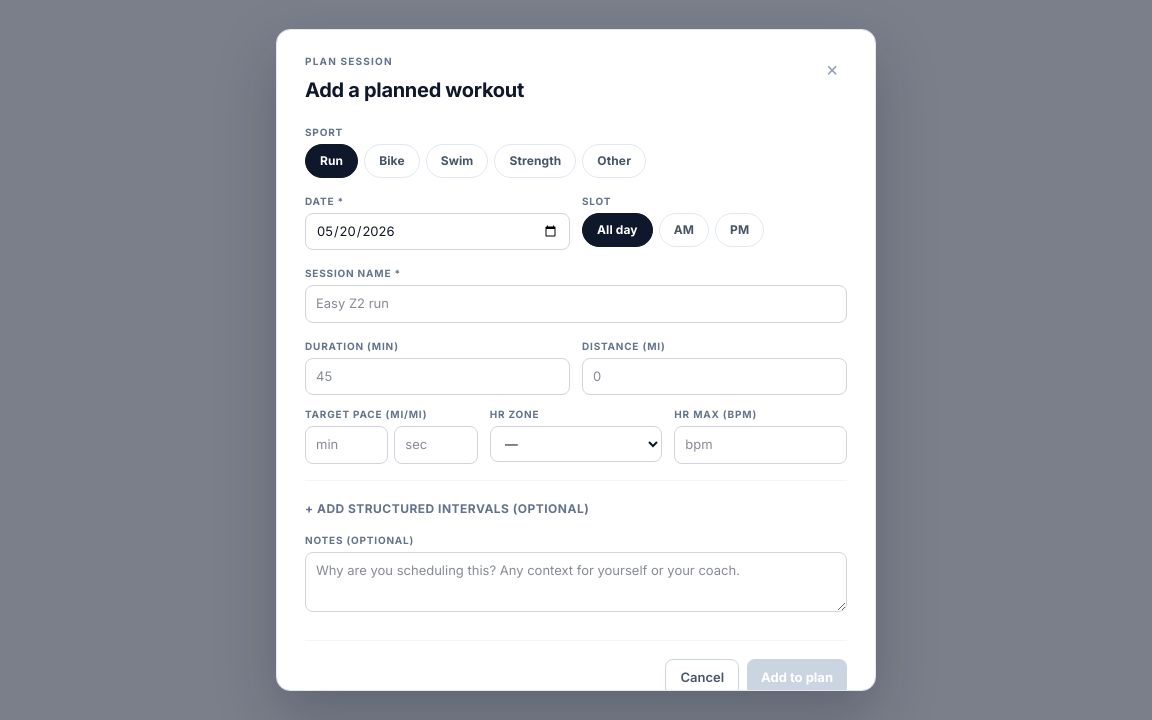
Test: PlanSessionModal — submit gating › enables Add when distance alone is entered (no duration)
The image size is (1152, 720).
Type "Long run" into the field named "session name" at (576, 304), box [305,285,847,323]
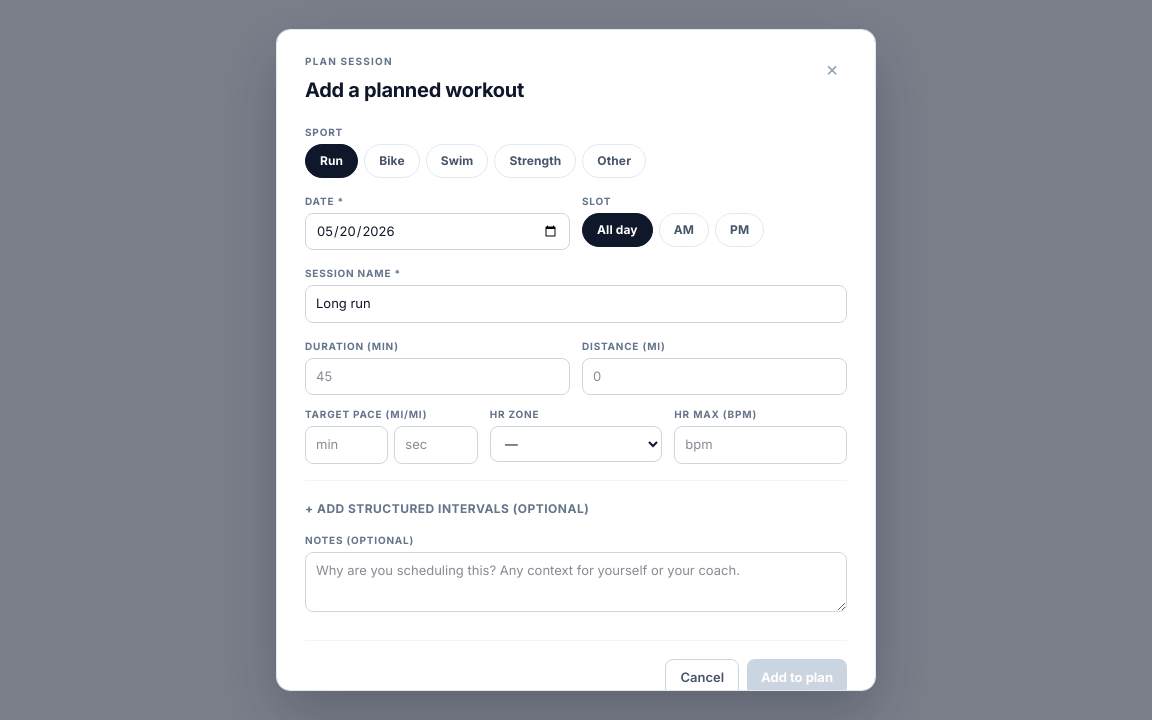
Type "10" into the number field named "target distance in mi" at (714, 377), box [582,358,847,395]
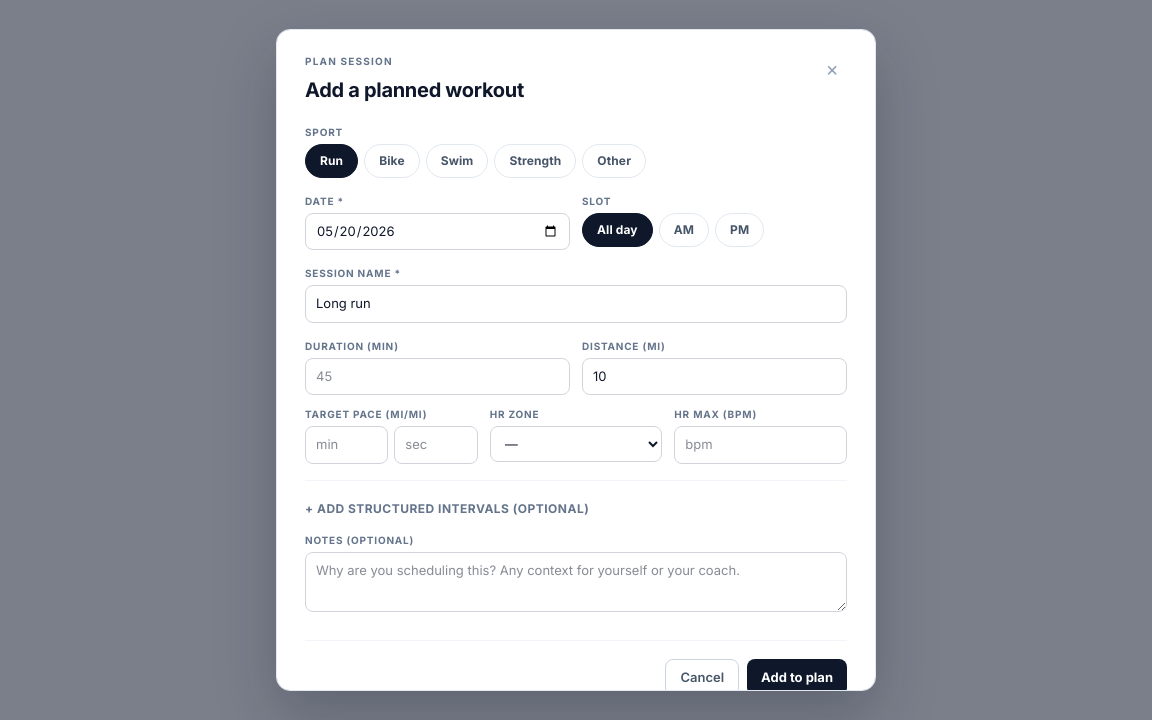
Check: the button "Add to plan" is enabled, box [747,659,847,691]
